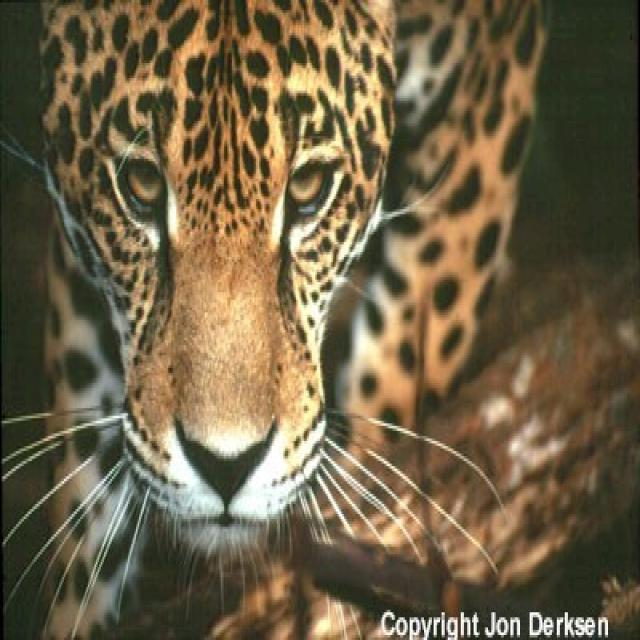Leopard: (0, 0, 542, 635)
